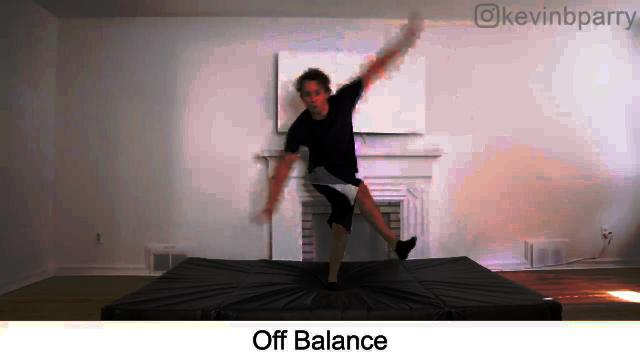jatuh: (238, 26, 430, 286)
